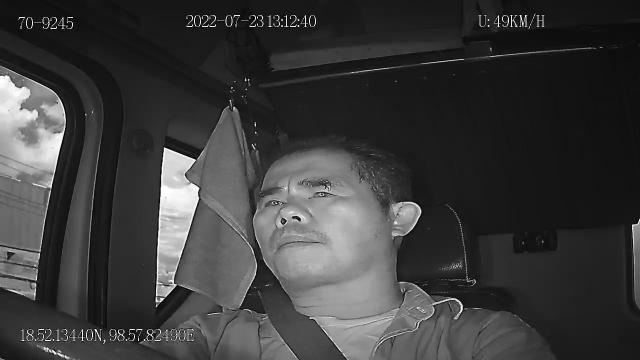SafeDriving: (300, 180, 342, 204), (258, 190, 292, 211)
Seatbelt: (254, 284, 350, 360)
